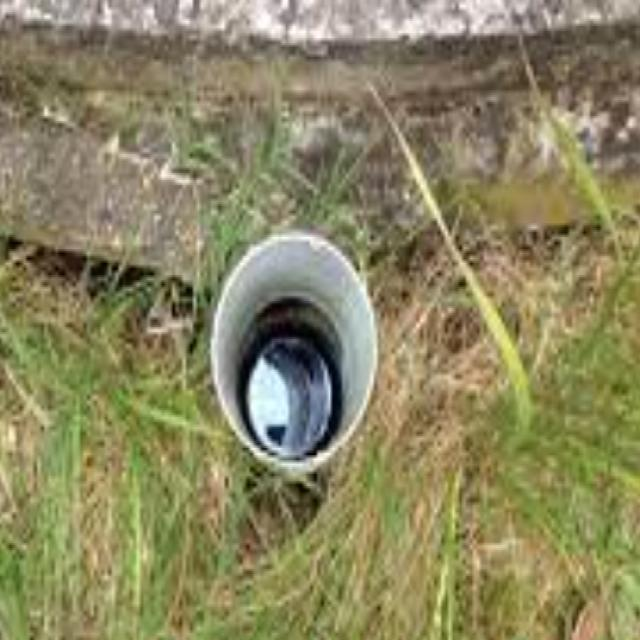Breeding Place: (217, 236, 375, 475)
